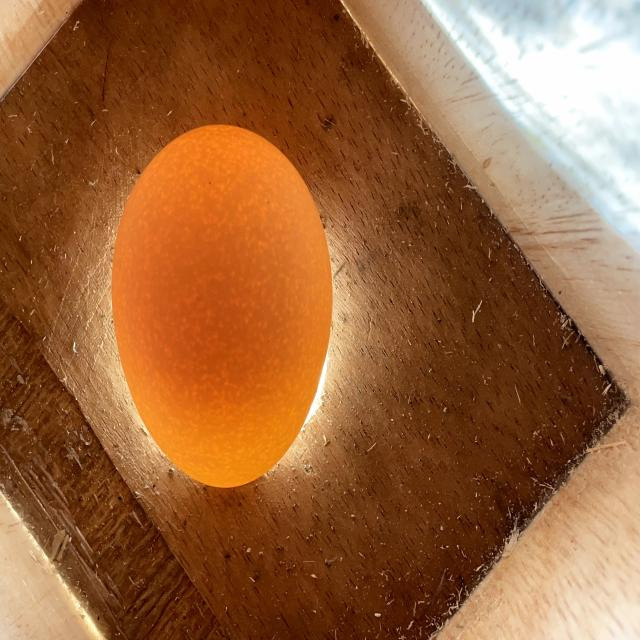infertile: (112, 125, 332, 487)
